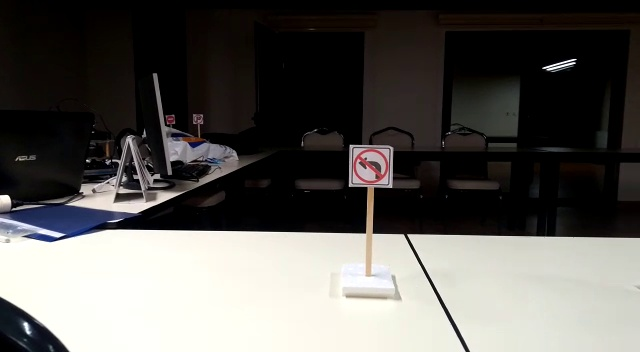sola_donulmez: (349, 147, 391, 185)
